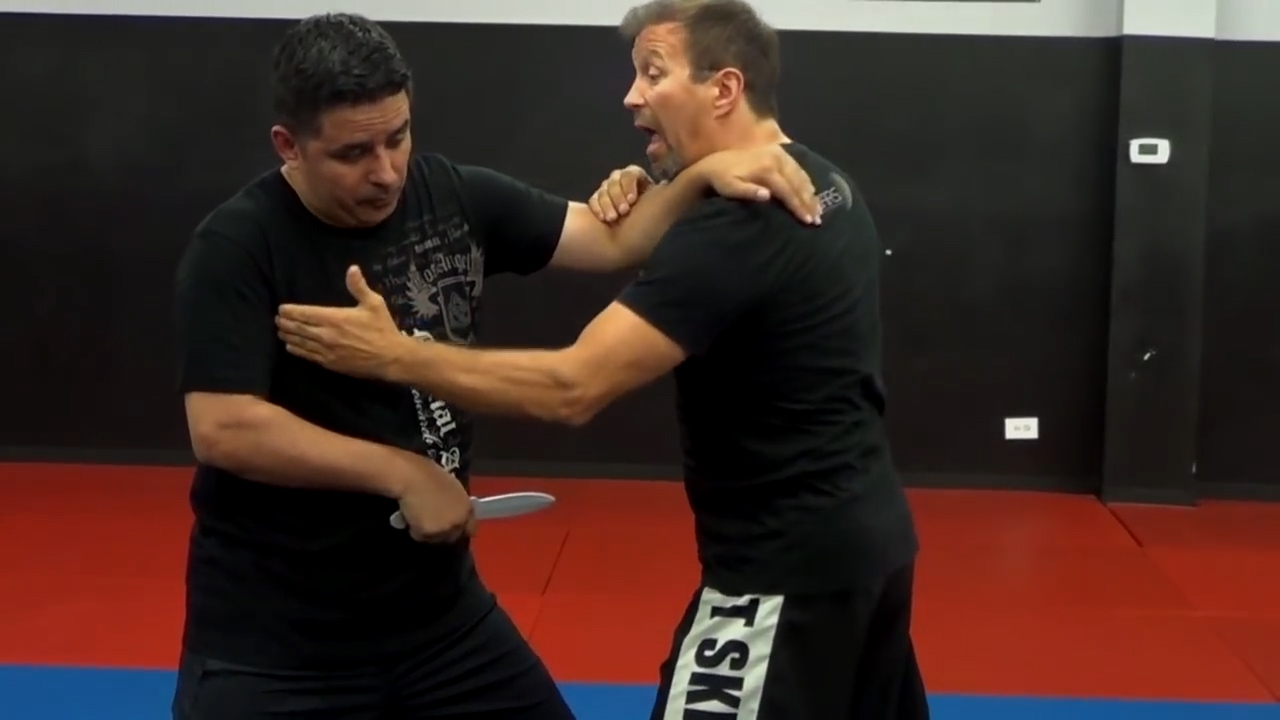knife: (385, 484, 561, 542)
